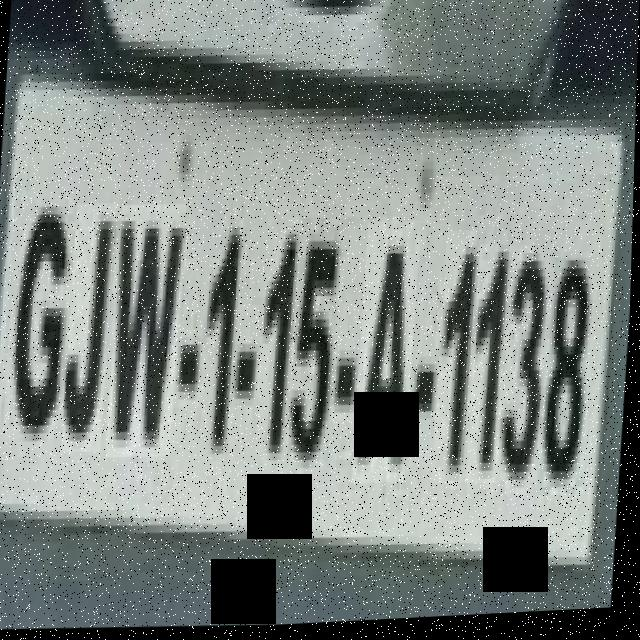1: (434, 234, 479, 489), (201, 208, 245, 466), (257, 219, 302, 466), (468, 248, 512, 491)
3: (500, 252, 551, 489)
5: (290, 219, 345, 465)
8: (543, 262, 595, 497)
A: (354, 224, 422, 490)
G: (4, 188, 74, 441)
J: (64, 203, 119, 454)
W: (108, 204, 187, 461)
